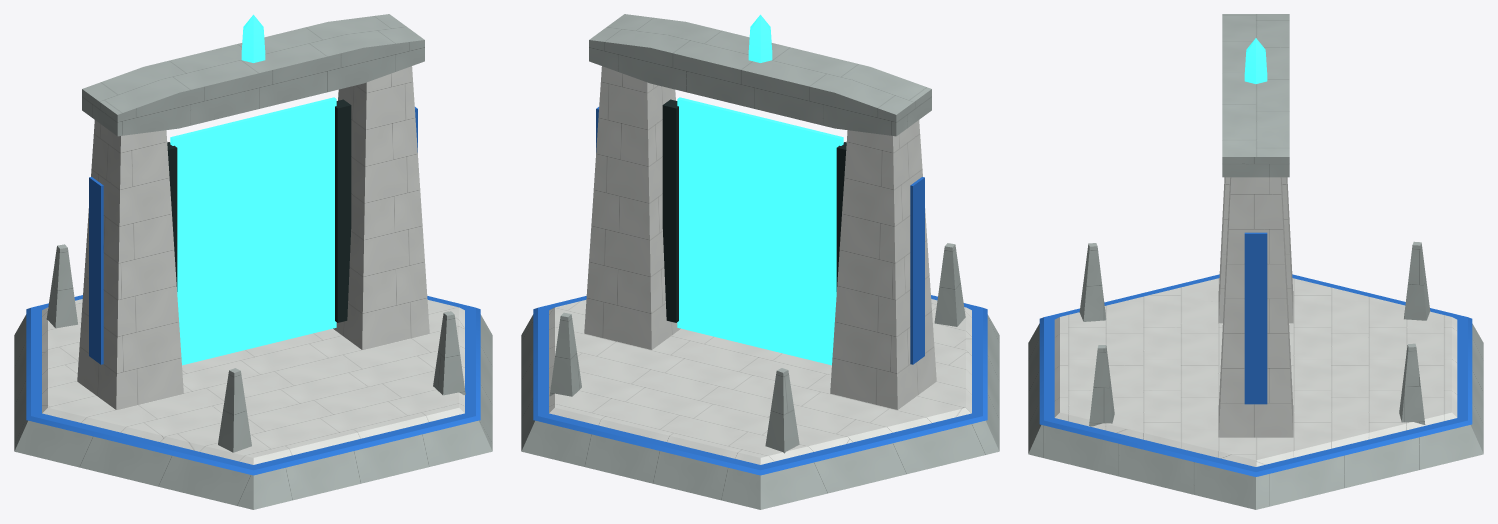
Rendered from energia_fabrica.glb.
3 renders of one model, left to right at view 1: azimuth 30°, elevation 25°; view 2: azimuth 150°, elevation 25°; view 3: azimuth 270°, elevation 25°, orthographic. The views are drawn at different scales.
Visible parts, largest first — view 1: Body_Shell, Body_ShellAlt, Body_Glow, Body_TeamColor, Body_Core; view 2: Body_Shell, Body_ShellAlt, Body_Glow, Body_TeamColor, Body_Core; view 3: Body_Shell, Body_ShellAlt, Body_TeamColor, Body_Glow.
Part boxes in pixels (<box>): Body_Shell: <box>42,66,464,464</box>; Body_ShellAlt: <box>14,14,492,509</box>; Body_Glow: <box>170,14,336,365</box>; Body_TeamColor: <box>26,107,480,475</box>; Body_Core: <box>167,99,351,322</box>; Body_Shell: <box>549,66,971,464</box>; Body_ShellAlt: <box>521,14,999,509</box>; Body_Glow: <box>677,14,843,365</box>; Body_TeamColor: <box>533,107,987,475</box>; Body_Core: <box>662,99,846,322</box>; Body_Shell: <box>1054,177,1457,466</box>; Body_ShellAlt: <box>1028,14,1483,509</box>; Body_TeamColor: <box>1039,232,1472,476</box>; Body_Glow: <box>1244,38,1267,83</box>.
Bounding box in the file's own units: 14 × 10.6 × 12.12.
Materials: 5 (2 with a texture image).
